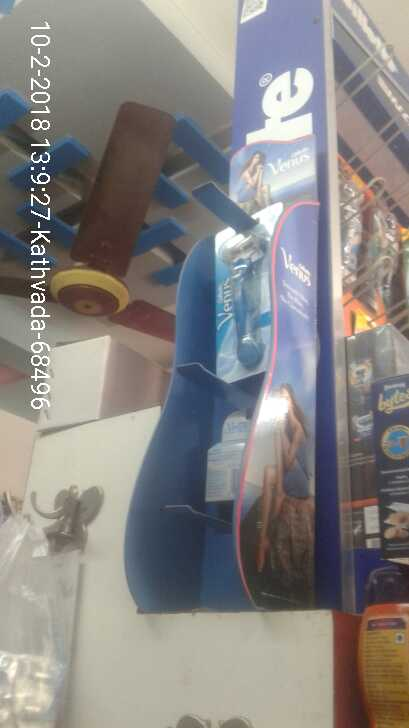venus: (217, 219, 285, 386)
